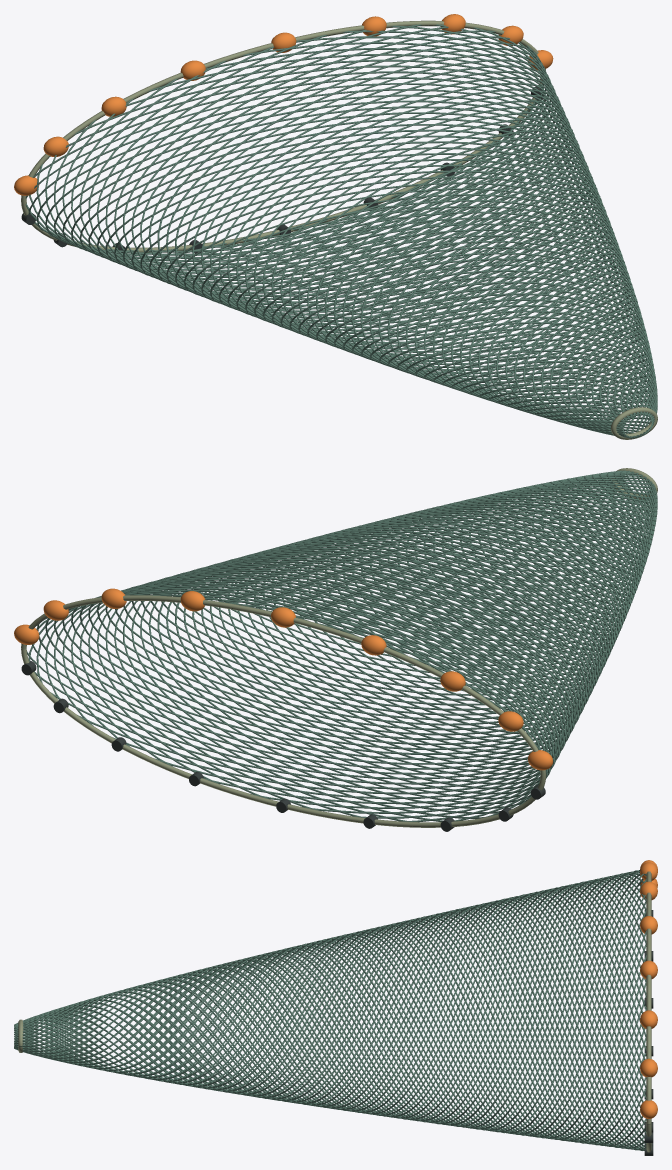
File: trawl_net_open.glb
3 renders of one model, top to bottom at view 1: azimuth 30°, elevation 25°; view 2: azimuth 150°, elevation 25°; view 3: azimuth 270°, elevation 25°, orthographic. The views are drawn at different scales.
Visible parts, largest first — view 1: trawl_net_open Fixed_NetTwine, trawl_net_open Fixed_Boltrope, trawl_net_open Fixed_FloatOrange, trawl_net_open Fixed_Bearing; view 2: trawl_net_open Fixed_NetTwine, trawl_net_open Fixed_Boltrope, trawl_net_open Fixed_FloatOrange, trawl_net_open Fixed_Bearing; view 3: trawl_net_open Fixed_NetTwine, trawl_net_open Fixed_FloatOrange, trawl_net_open Fixed_Boltrope, trawl_net_open Fixed_Bearing.
Boxes of the visible parts, bbox=[...] form: trawl_net_open Fixed_NetTwine: bbox=[25, 24, 657, 438]; trawl_net_open Fixed_Boltrope: bbox=[21, 20, 657, 439]; trawl_net_open Fixed_FloatOrange: bbox=[14, 14, 553, 195]; trawl_net_open Fixed_Bearing: bbox=[21, 86, 542, 253]; trawl_net_open Fixed_NetTwine: bbox=[27, 470, 657, 822]; trawl_net_open Fixed_Boltrope: bbox=[21, 468, 657, 827]; trawl_net_open Fixed_FloatOrange: bbox=[14, 588, 553, 770]; trawl_net_open Fixed_Bearing: bbox=[21, 661, 545, 831]; trawl_net_open Fixed_NetTwine: bbox=[14, 870, 648, 1150]; trawl_net_open Fixed_FloatOrange: bbox=[640, 860, 657, 1118]; trawl_net_open Fixed_Boltrope: bbox=[18, 871, 651, 1152]; trawl_net_open Fixed_Bearing: bbox=[644, 910, 653, 1155].
Size of the model in its own units: 5.25 by 1.89 by 6.09.
